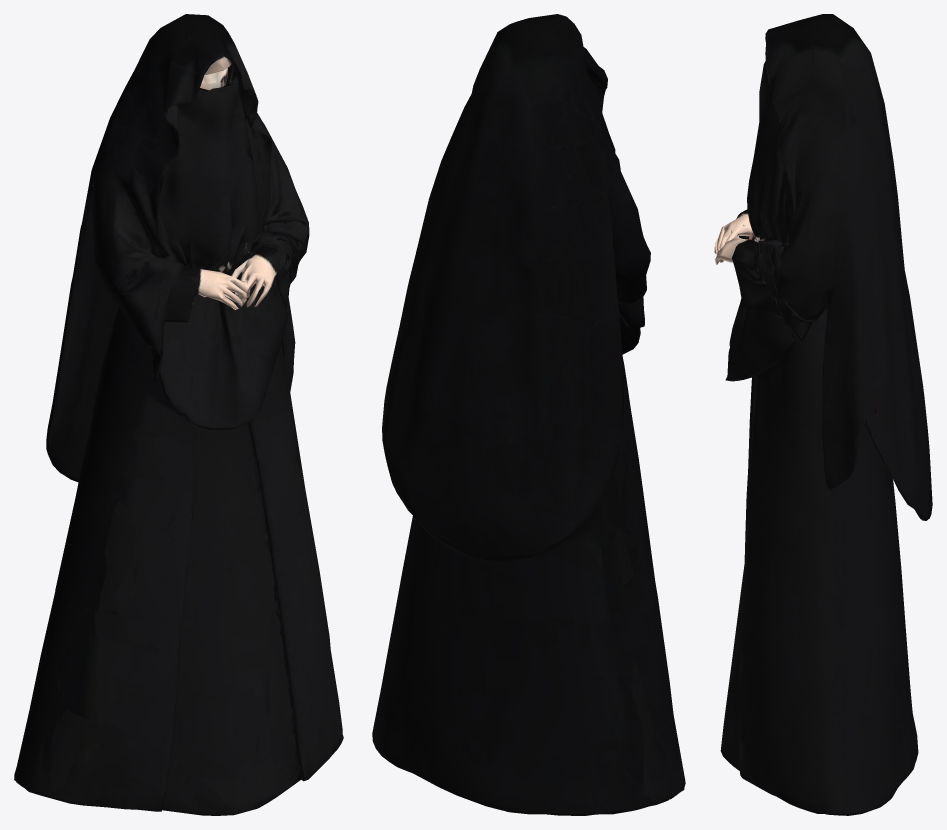
Rendered from veiled_in_black.glb.
The picture shows the model from 3 angles, left to right: view 1: azimuth 30°, elevation 25°; view 2: azimuth 150°, elevation 25°; view 3: azimuth 270°, elevation 25°; orthographic projection. The views are drawn at different scales.
Size of the model in its own units: 0.8154 by 1.9 by 0.5087.
1 material, 1 textured.
